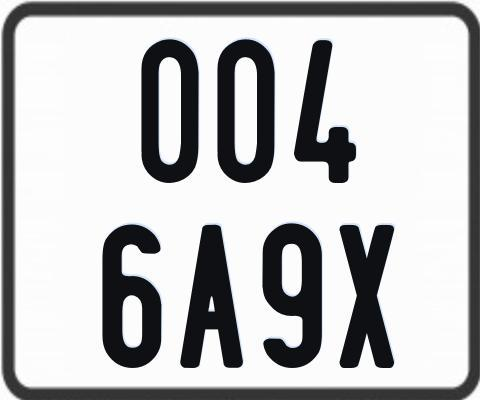0: (215, 39, 277, 188), (141, 39, 199, 186)
4: (292, 39, 355, 183)
6: (100, 222, 165, 367)
9: (261, 223, 323, 373)
A: (179, 224, 248, 367)
X: (337, 225, 393, 371)
